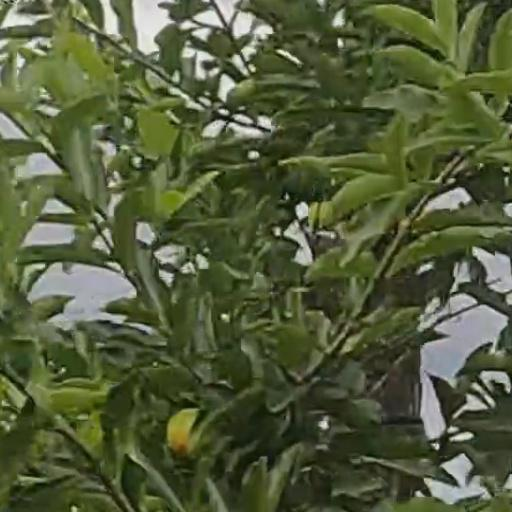acerola: (166, 407, 196, 454)
